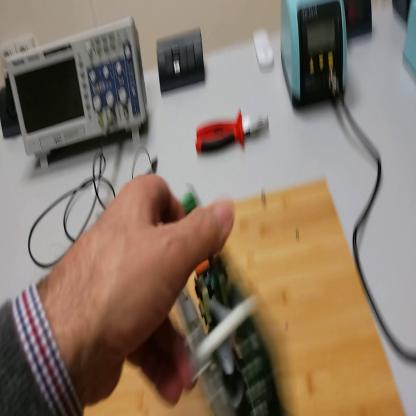hand: (64, 170, 237, 406)
low voltage board: (180, 186, 286, 416)
oscilloscope: (5, 16, 150, 165)
pliers: (196, 109, 268, 154)
socket: (344, 2, 377, 44), (2, 81, 23, 141), (391, 1, 412, 26)
welder base: (402, 4, 416, 79)
welder station: (280, 1, 349, 116)
working area: (80, 179, 406, 414)
